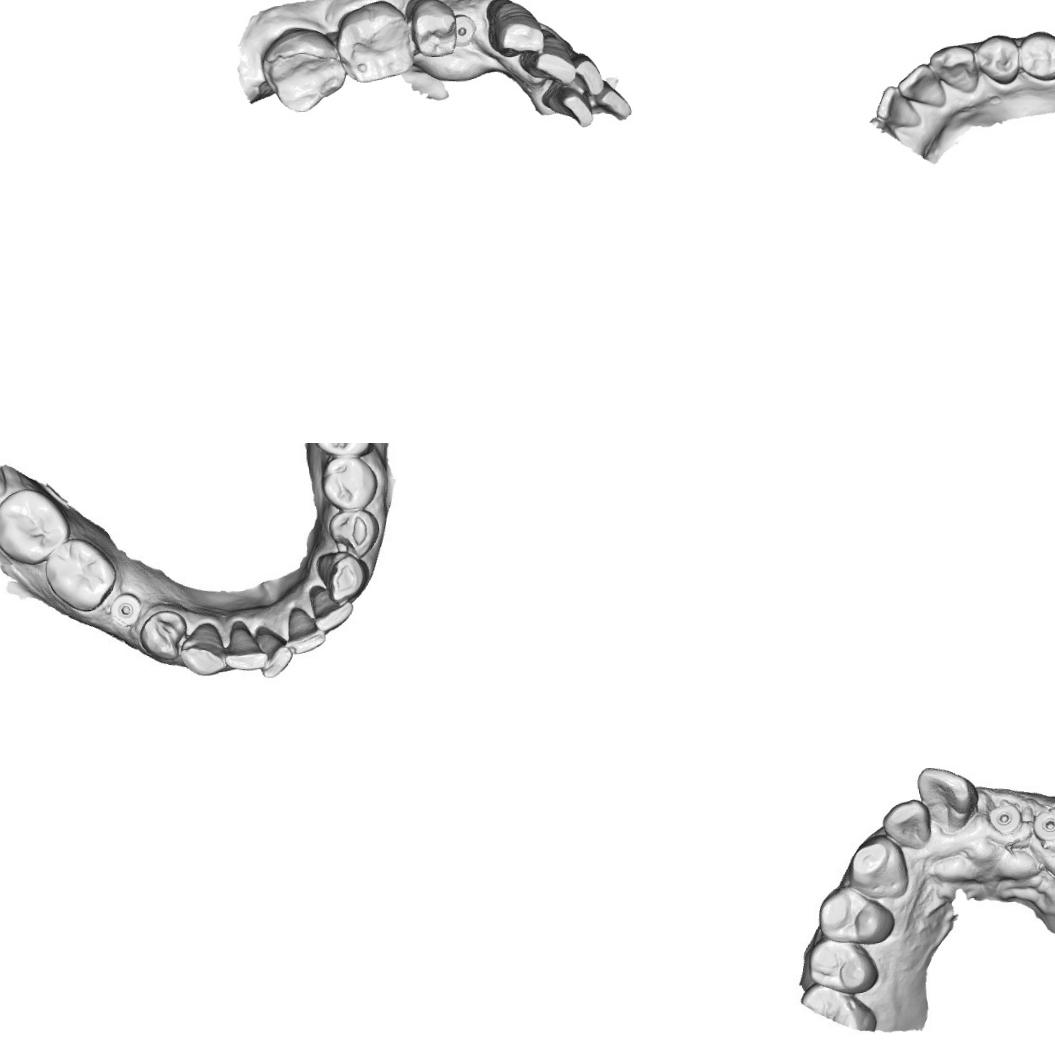canine: (845, 836, 914, 904), (484, 0, 542, 59), (926, 36, 979, 97), (177, 620, 230, 678), (315, 547, 367, 603)
implant: (106, 593, 142, 631), (986, 804, 1024, 837), (452, 12, 477, 48), (1032, 809, 1055, 843)
incisor: (918, 764, 978, 835), (518, 32, 577, 88), (894, 60, 948, 112), (883, 798, 933, 852), (540, 82, 594, 131), (221, 620, 268, 676), (873, 81, 922, 132), (282, 606, 327, 658), (308, 584, 355, 633), (254, 626, 295, 682), (586, 78, 632, 122), (570, 50, 606, 98)
molar: (258, 23, 348, 114), (333, 0, 415, 85), (41, 534, 117, 615), (0, 485, 71, 565), (306, 443, 378, 459)
premolar: (815, 883, 894, 948), (802, 934, 878, 999), (319, 454, 382, 514), (971, 24, 1026, 89), (407, 0, 457, 59), (138, 605, 187, 665), (326, 504, 380, 558), (1014, 21, 1055, 85)
